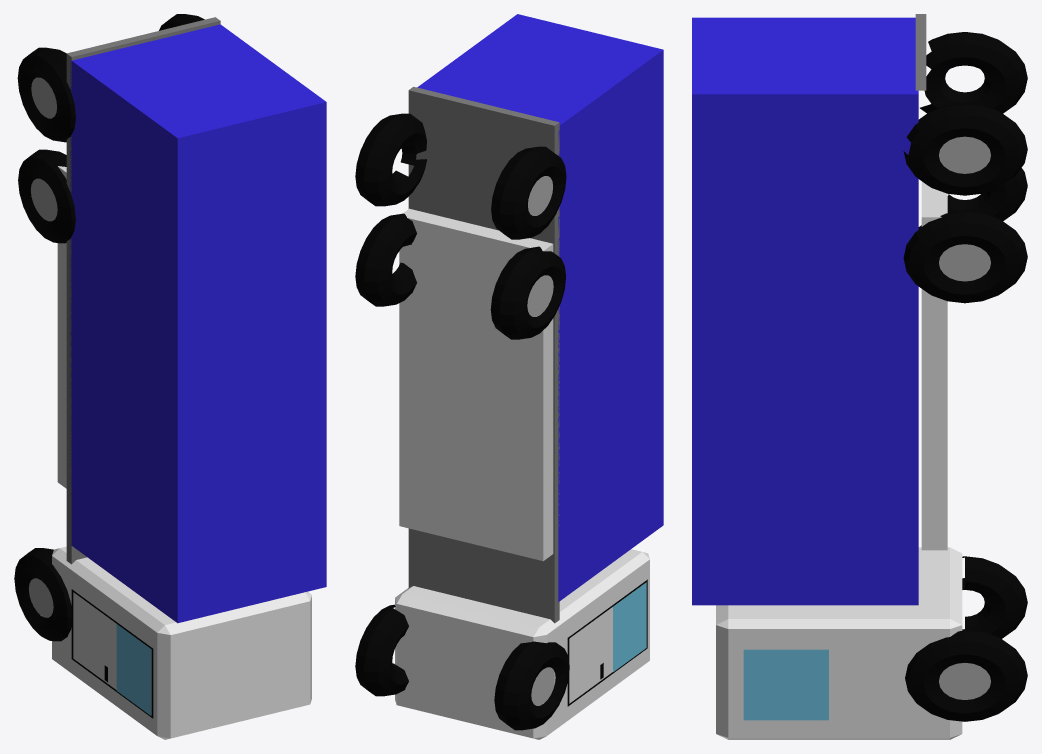
Rendered from lorry_2.glb.
3 views of the same model, side by side, from view 1: azimuth 30°, elevation 25°; view 2: azimuth 150°, elevation 25°; view 3: azimuth 270°, elevation 25° (orthographic). The views are drawn at different scales.
Visible parts, largest first — view 1: Cube.002; view 2: Cube.002; view 3: Cube.002.
Part boxes in pixels (bbox=[...]): Cube.002: bbox=[14, 14, 326, 739]; Cube.002: bbox=[355, 14, 663, 739]; Cube.002: bbox=[692, 14, 1027, 739].
Bounding box in the file's own units: 0.0783 × 0.2659 × 0.1238.
